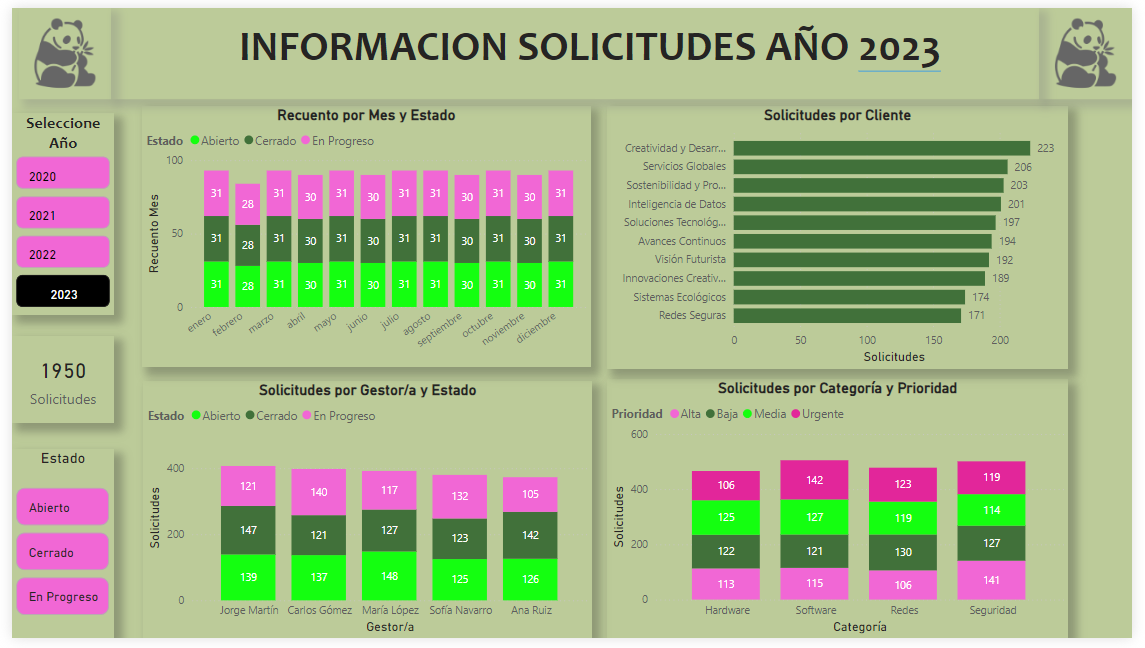

This screenshot's page, from the dashboard's own definition file:
{"tool":"powerbi","page":{"name":"Página 2","canvas":[1280,720],"ordinal":1},"visuals":[{"type":"advancedSlicerVisual","title":"Seleccione Año","fields":{"Values":["Fechas.Año"]},"box":[0,119.4,117,230.4],"z":0},{"type":"columnChart","title":"Recuento por Mes y Estado","fields":{"Category":["Fechas.nombreMes"],"Y":["Fechas.nombreMes"],"Series":["Estado.NombreEstado"]},"box":[148.4,111,512.7,299.2],"z":1000},{"type":"barChart","title":"Solicitudes por Cliente","fields":{"Category":["Cliente.NombreCliente"],"Y":["Medidas.Solicitudes"]},"box":[680.4,111,527.2,300.4],"z":2000},{"type":"textbox","box":[170.1,8.4,980.8,88.1],"z":3000},{"type":"columnChart","title":"Solicitudes por Gestor/a y Estado","fields":{"Category":["Gestor/a.NombreGestor/a"],"Y":["Medidas.Solicitudes"],"Series":["Estado.NombreEstado"]},"box":[150,425,513,295],"z":4000},{"type":"columnChart","title":"Solicitudes por Categoría y Prioridad","fields":{"Category":["Categoría.NombreCategoría"],"Y":["Medidas.Solicitudes"],"Series":["Prioridad.NombrePrioridad"]},"box":[680.4,424.7,527.2,295.6],"z":5000},{"type":"advancedSlicerVisual","title":"Estado","fields":{"Values":["Estado.NombreEstado"]},"box":[0,505,116.9,215],"z":6000},{"type":"card","fields":{"Values":["Medidas.Solicitudes"]},"box":[0,374,117,100.1],"z":7000}]}

Visuals, with their boxes in screenshot pixels (x1, y1, x2, y2), scaled from the page's 1280x720 canvas onto the 1145x648 screenshot:
"Seleccione Año" advancedSlicerVisual: 0 107 105 315
"Recuento por Mes y Estado" columnChart: 133 100 591 369
"Solicitudes por Cliente" barChart: 609 100 1080 370
textbox: 152 8 1030 87
"Solicitudes por Gestor/a y Estado" columnChart: 134 382 593 647
"Solicitudes por Categoría y Prioridad" columnChart: 609 382 1080 647
"Estado" advancedSlicerVisual: 0 454 105 647
card - Medidas.Solicitudes: 0 337 105 427
